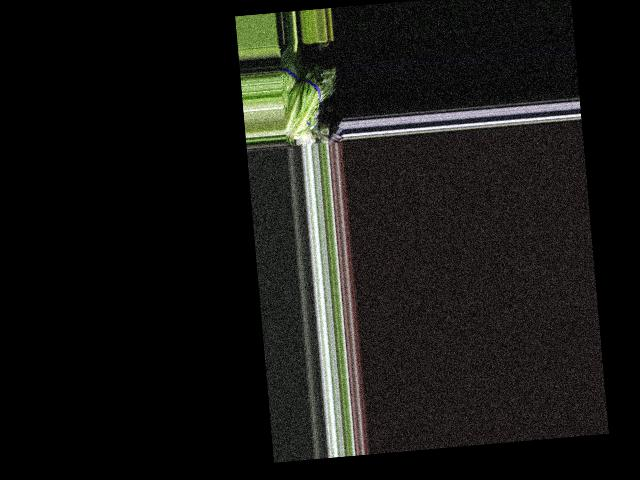lettuce: (279, 63, 337, 132)
